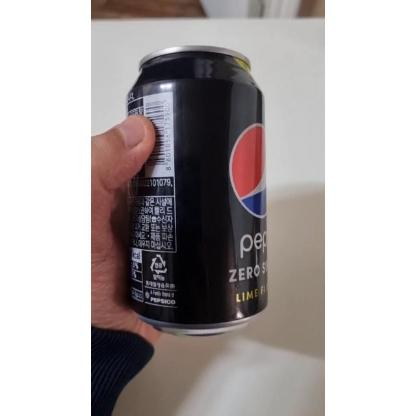Can: (117, 44, 271, 338)
